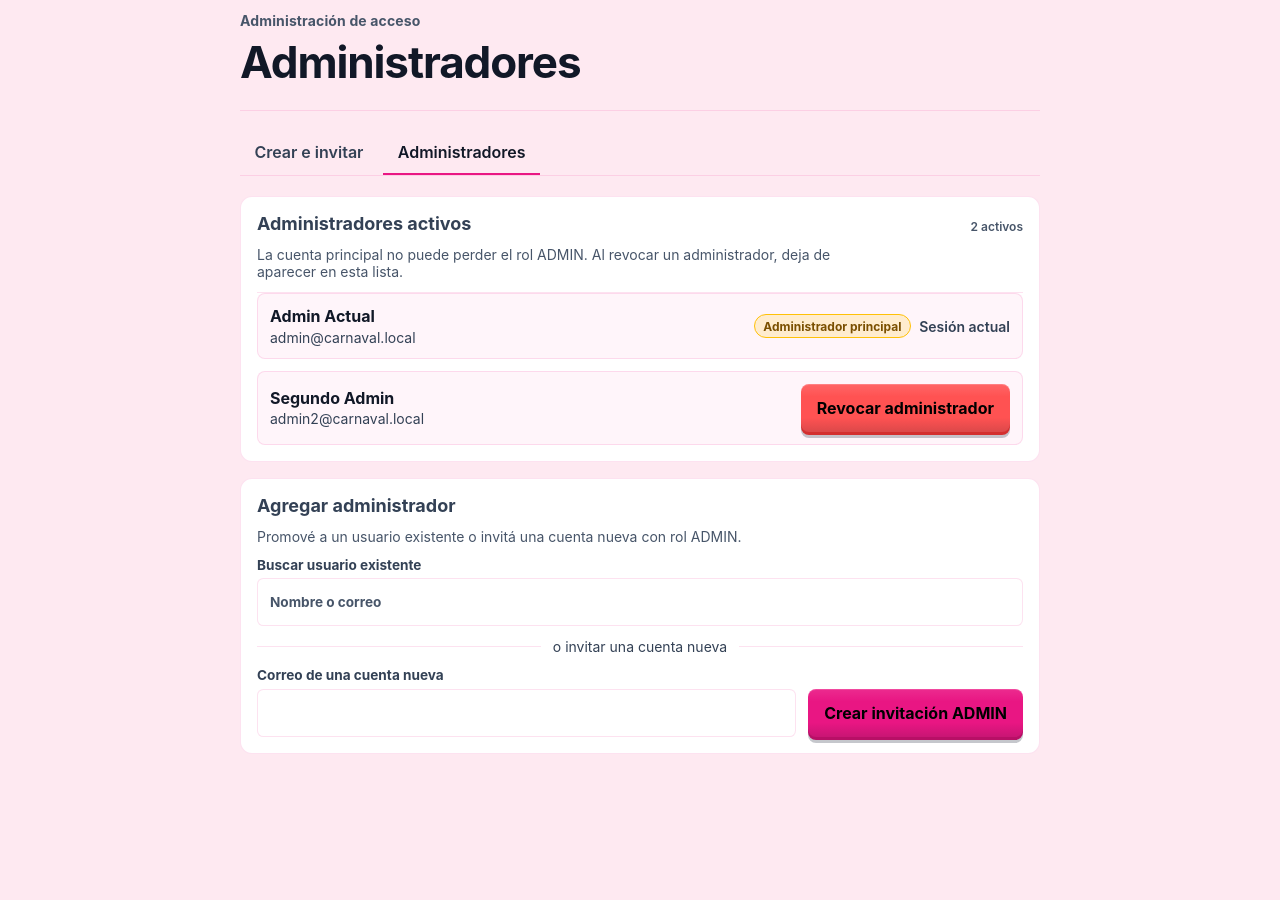
Test case: AdminUsersPage › muestra mensaje humano ante error PRIMARY_ADMIN_PROTECTED
Click the button "Revocar administrador" at (905, 408), box x1=801 y1=384 x2=1010 y2=432
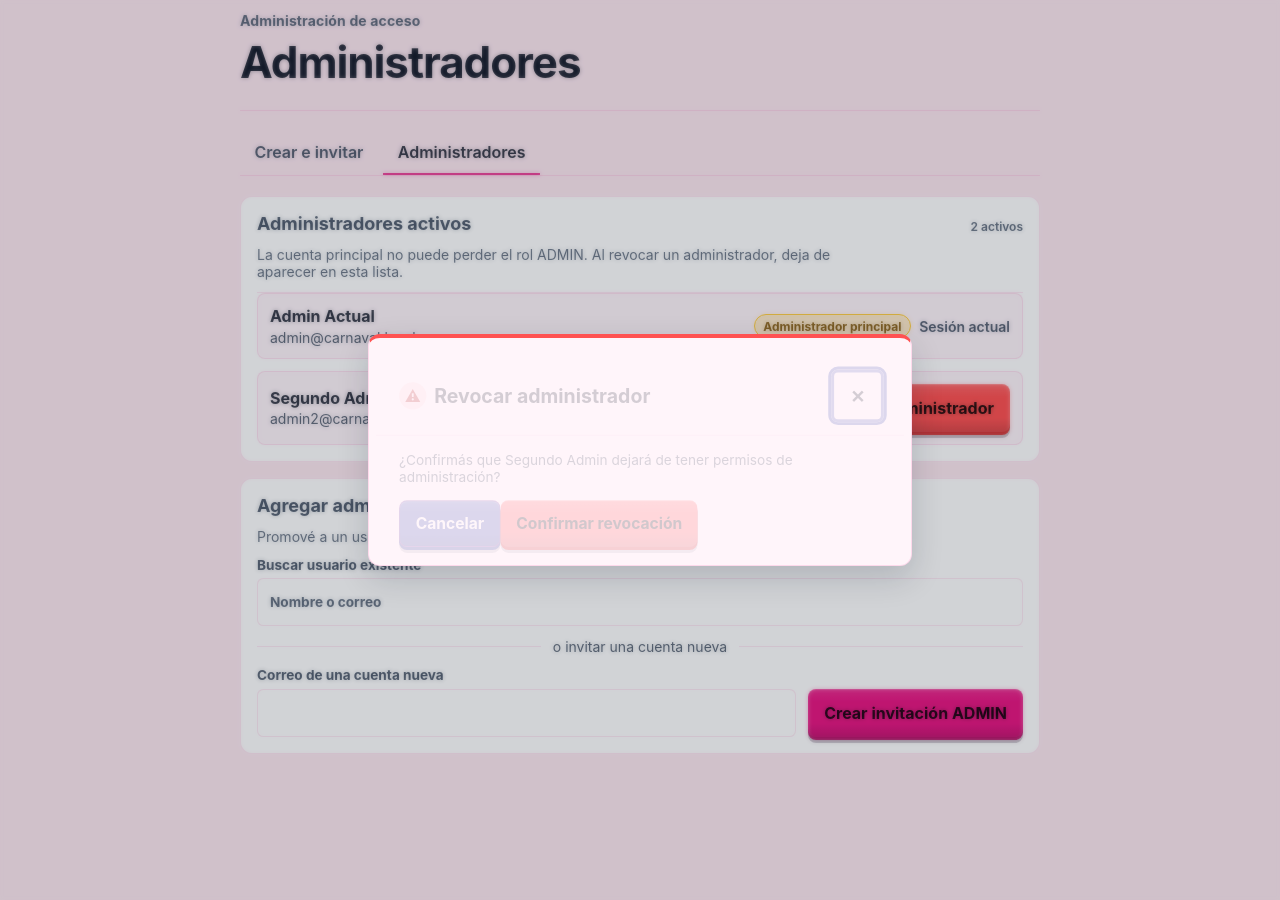
Click the button "Confirmar revocación" at (599, 524), box x1=501 y1=500 x2=698 y2=547
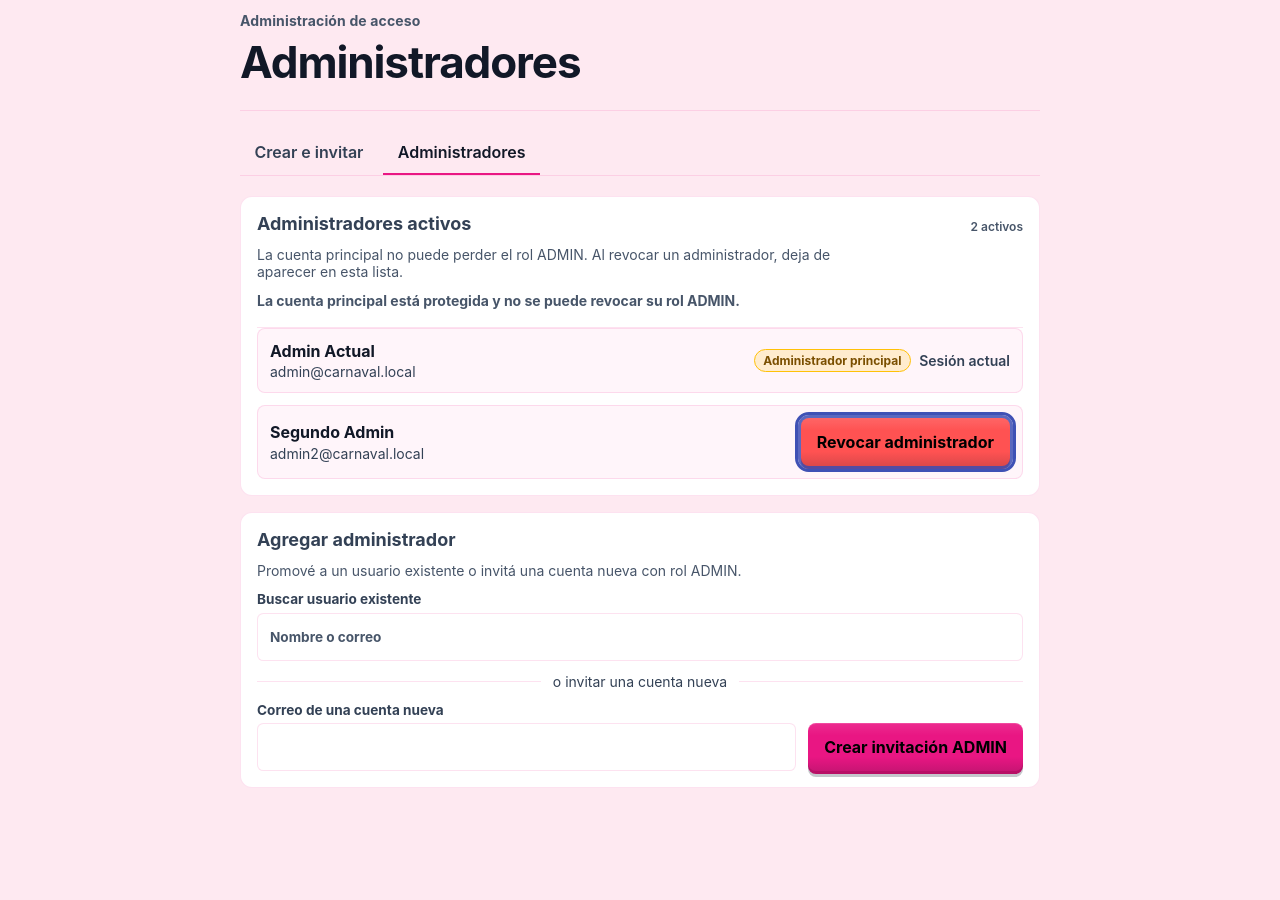
expect the text "La cuenta principal está protegida y no se puede revocar su rol ADMIN." is shown: met, box x1=257 y1=292 x2=740 y2=309
